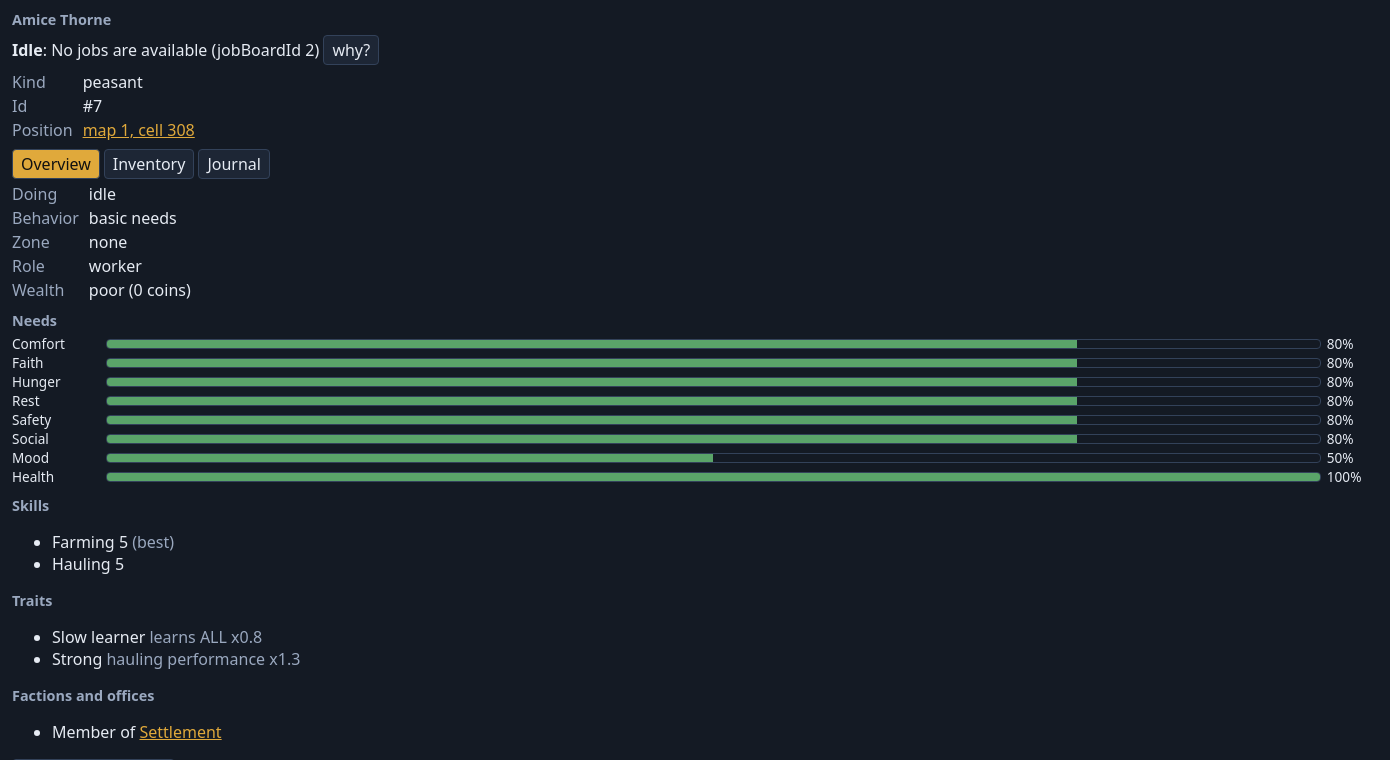
Test: EntityInspection › shows a character with tabs for overview, inventory and journal
expect the tab "Overview" is shown: met, box x1=12 y1=149 x2=100 y2=179
Click the tab "Inventory" at (149,164), box x1=104 y1=149 x2=194 y2=179
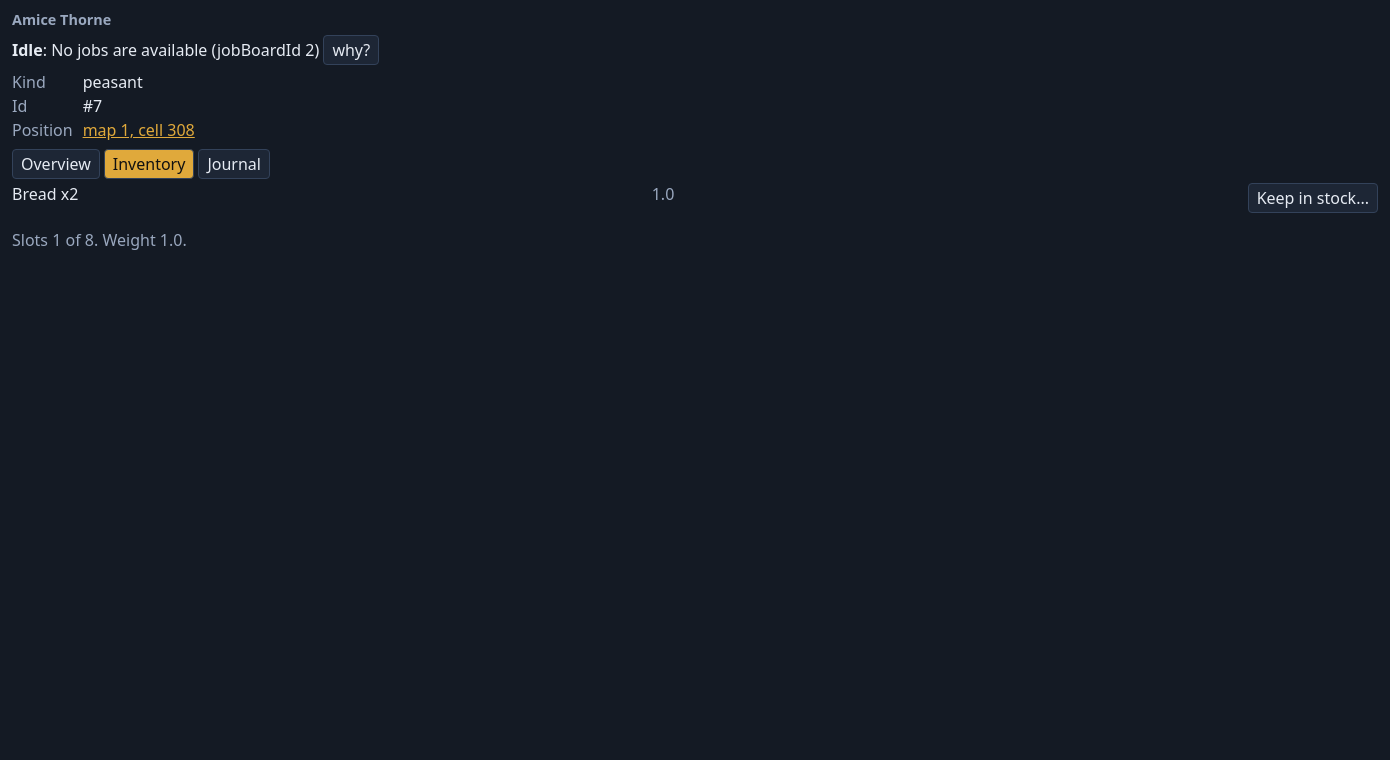
expect the text "Bread x2" is shown: met, box x1=12 y1=183 x2=78 y2=213
Click the tab "Journal" at (234,164), box x1=198 y1=149 x2=270 y2=179
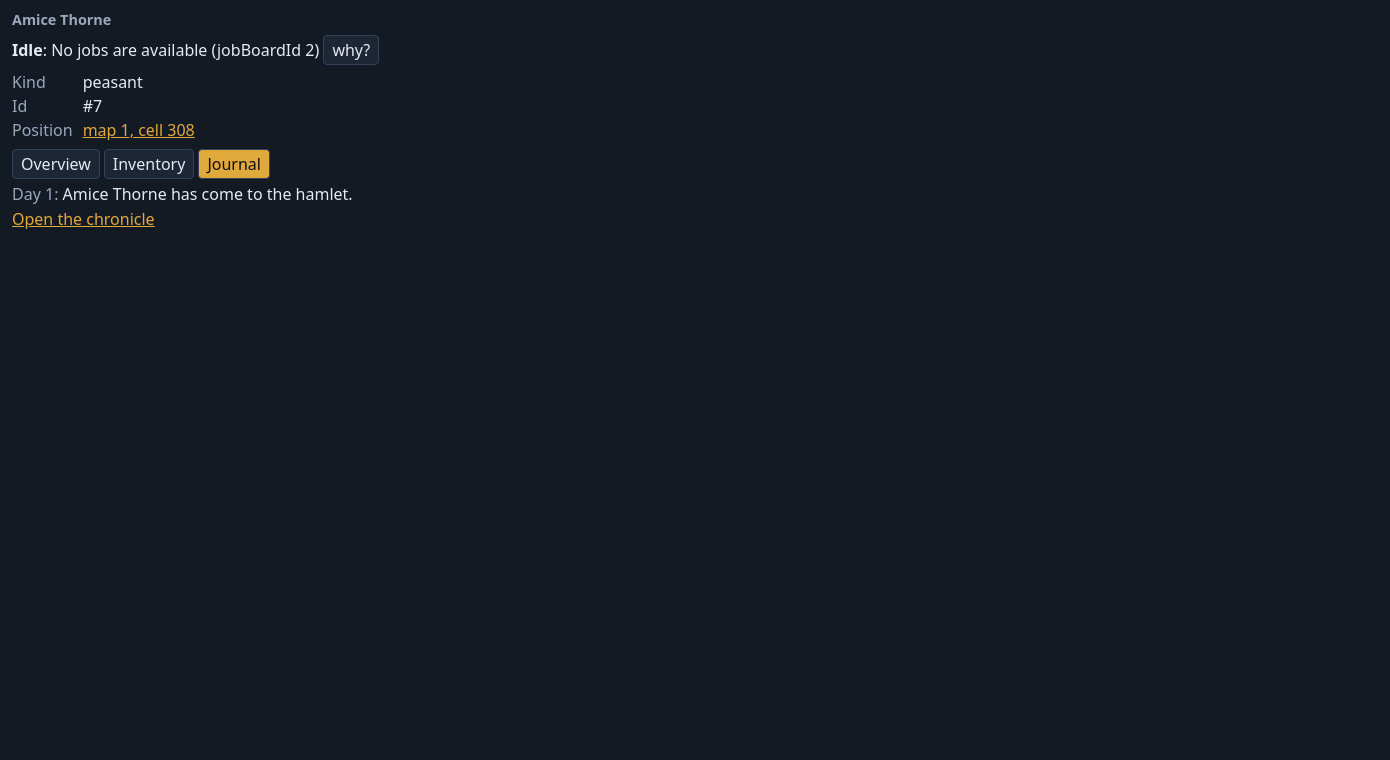
expect the list item "Day 1: Amice Thorne has come to the hamlet." is shown: met, box x1=12 y1=183 x2=353 y2=205
